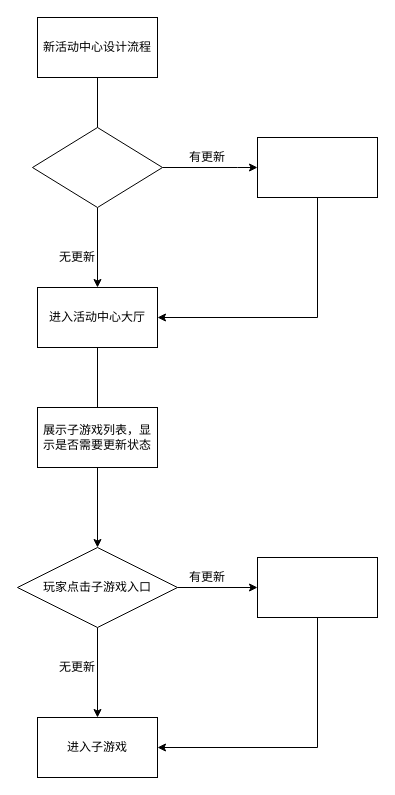
The diagram is 395 pixels wide and 795 high, and some of its shapes have lost their labels. The centre of each missing label's shape, as x and y in pixels:
"下载大厅更新包并应用" belongs at [317,167].
"下载子游戏更新包并应用" belongs at [317,587].
"进入游戏，Lua层检查大厅更新" belongs at [97,167].
